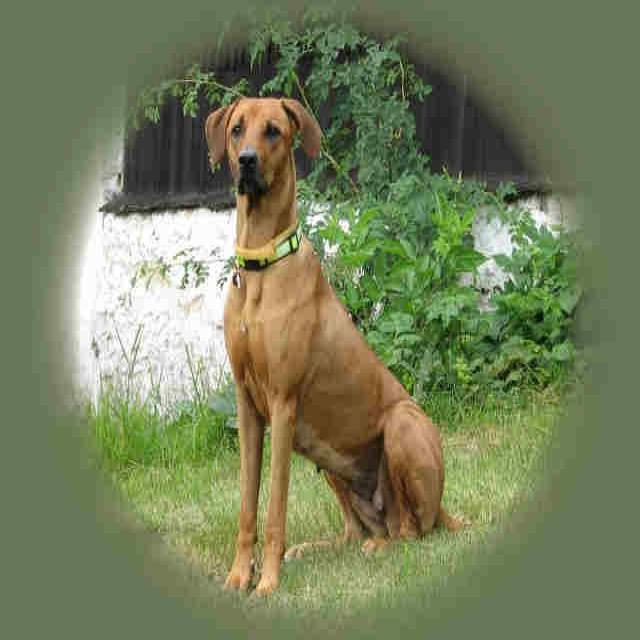sitting: (193, 87, 485, 609)
